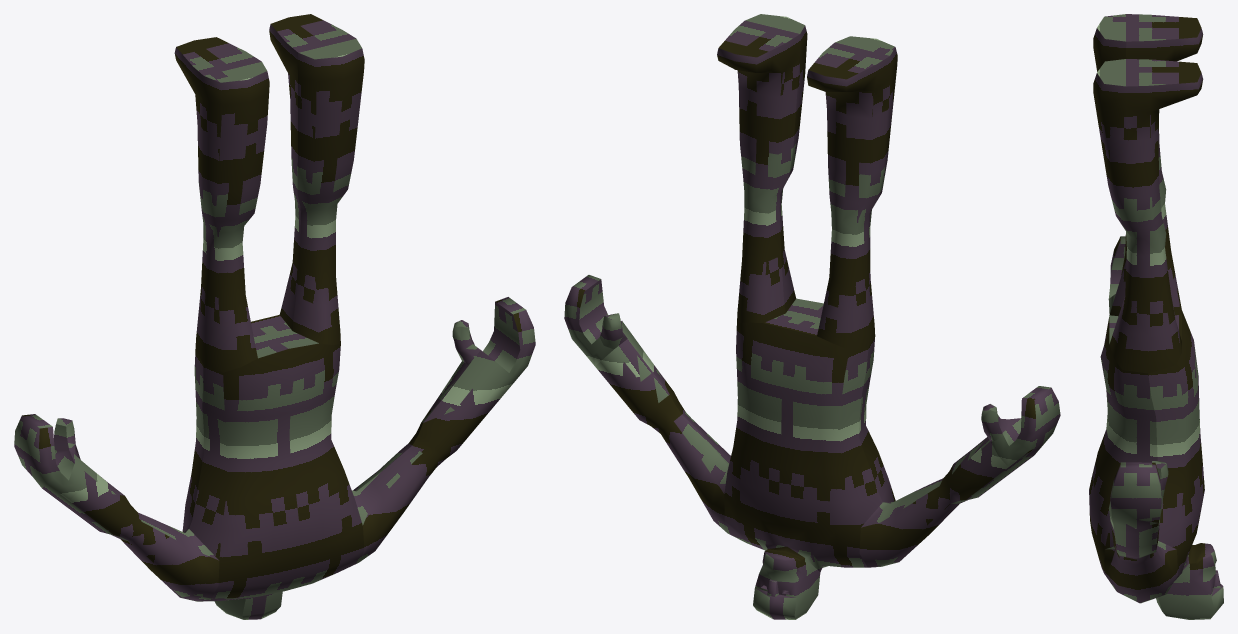
File: wallman.glb
3 views of the same model, side by side, from view 1: azimuth 30°, elevation 25°; view 2: azimuth 150°, elevation 25°; view 3: azimuth 270°, elevation 25° (orthographic). The views are drawn at different scales.
Visible parts, largest first — view 1: Object_55; view 2: Object_55; view 3: Object_55.
Part boxes in pixels (left/top/right/bottom): Object_55: left=14, top=14, right=535, bottom=619; Object_55: left=564, top=14, right=1060, bottom=619; Object_55: left=1089, top=14, right=1223, bottom=619.
Size of the model in its own units: 163 by 182 by 39.63.
1 material, 1 textured.
